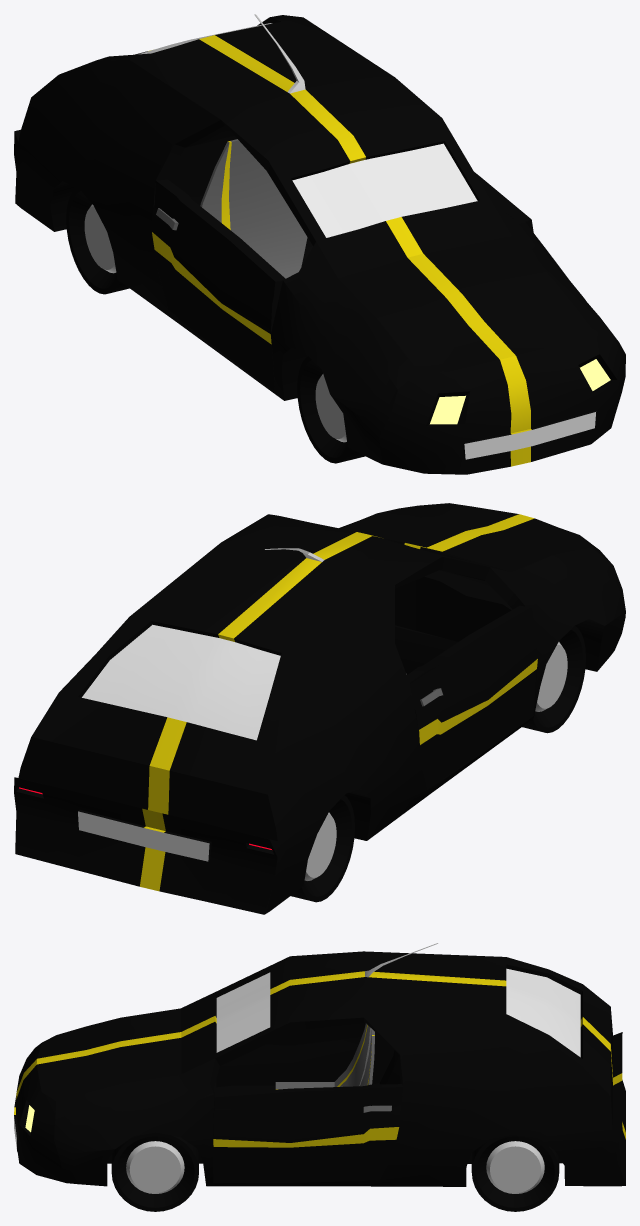
The model's file is Coche01.fbx.
The picture shows the model from 3 angles, top to bottom: view 1: azimuth 30°, elevation 25°; view 2: azimuth 150°, elevation 25°; view 3: azimuth 270°, elevation 25°; orthographic projection. The views are drawn at different scales.
Parts seen in each view (by area): view 1: Carroceria, Puerta Drch, Asientos, Rueda 03, Rueda 01, Puerta Izquierda; view 2: Carroceria, Puerta Drch, Rueda 01, Rueda 03; view 3: Carroceria, Puerta Izquierda, Puerta Drch, Rueda 02, Rueda 04, Asientos.
Boxes of the visible parts, bbox=[...] form: Carroceria: bbox=[14, 14, 625, 474]; Puerta Drch: bbox=[151, 179, 285, 391]; Asientos: bbox=[200, 139, 307, 278]; Rueda 03: bbox=[66, 187, 129, 294]; Rueda 01: bbox=[297, 356, 365, 463]; Puerta Izquierda: bbox=[474, 172, 533, 232]; Carroceria: bbox=[14, 503, 625, 914]; Puerta Drch: bbox=[407, 605, 537, 789]; Rueda 01: bbox=[522, 626, 585, 733]; Rueda 03: bbox=[291, 795, 354, 902]; Carroceria: bbox=[14, 943, 625, 1186]; Puerta Izquierda: bbox=[213, 1084, 402, 1182]; Puerta Drch: bbox=[216, 1021, 394, 1087]; Rueda 02: bbox=[111, 1132, 198, 1211]; Rueda 04: bbox=[471, 1135, 559, 1211]; Asientos: bbox=[275, 1023, 374, 1089].
Bounding box in the file's own units: 113 × 113 × 281.
